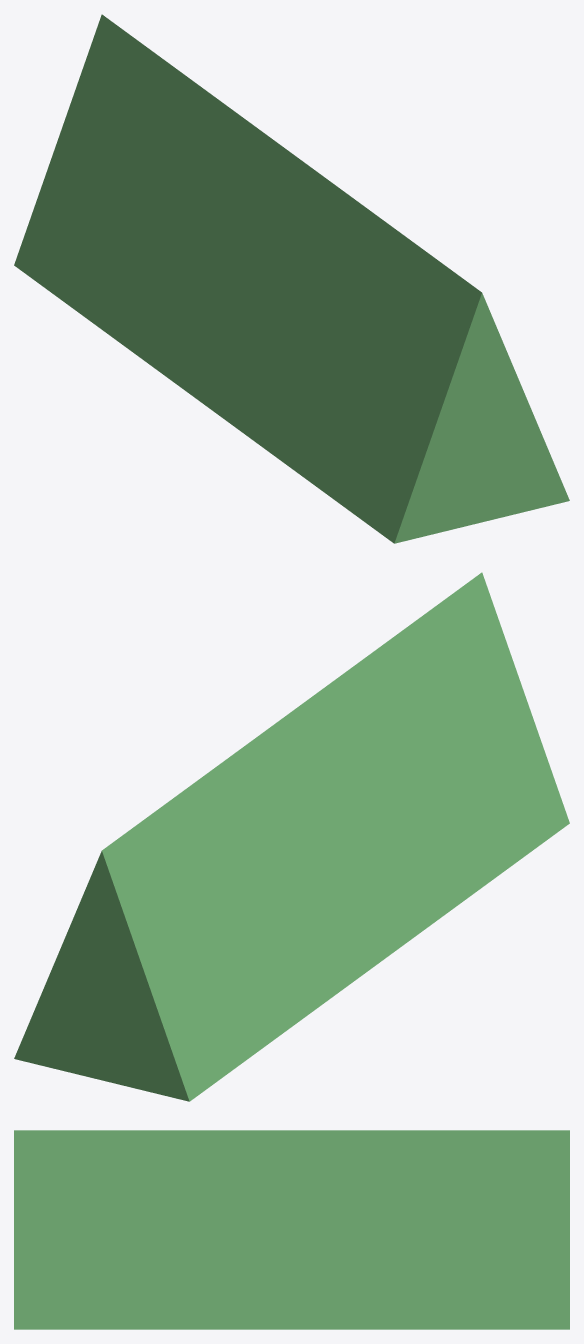
Rendered from Prisma-Isosceles.glb.
3 renders of one model, top to bottom at view 1: azimuth 30°, elevation 25°; view 2: azimuth 150°, elevation 25°; view 3: azimuth 270°, elevation 25°, orthographic. The views are drawn at different scales.
Parts seen in each view (by area): view 1: Mesh_Mesh_head_geo.001_lambert2SG.001; view 2: Mesh_Mesh_head_geo.001_lambert2SG.001; view 3: Mesh_Mesh_head_geo.001_lambert2SG.001.
Part boxes in pixels (bbox=[...]): Mesh_Mesh_head_geo.001_lambert2SG.001: bbox=[14, 14, 569, 543]; Mesh_Mesh_head_geo.001_lambert2SG.001: bbox=[14, 572, 569, 1101]; Mesh_Mesh_head_geo.001_lambert2SG.001: bbox=[14, 1130, 569, 1329].
Size of the model in its own units: 8 by 10 by 30.
